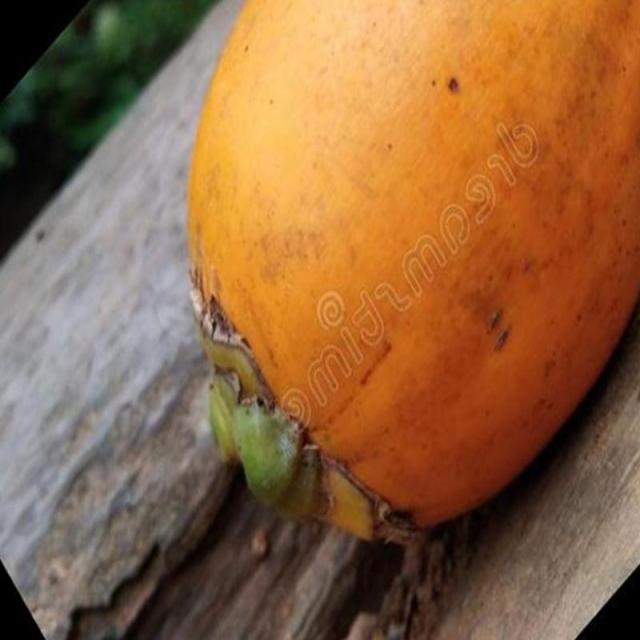good: (187, 0, 639, 540)
